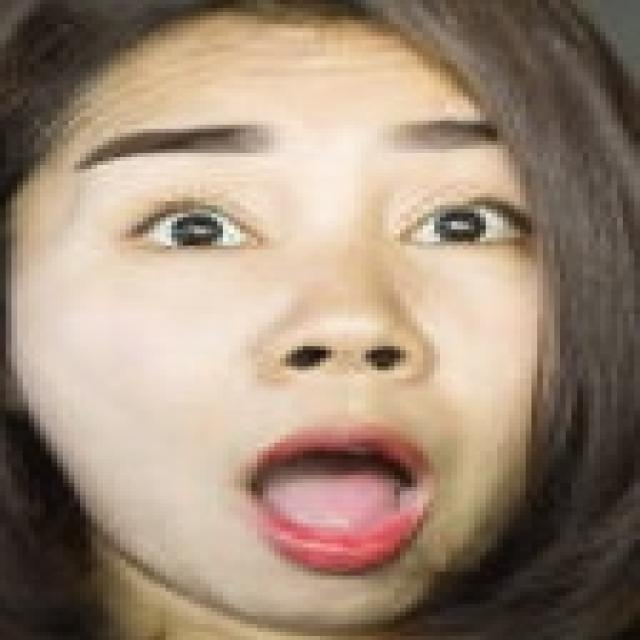Anxiety: (0, 17, 548, 629)
